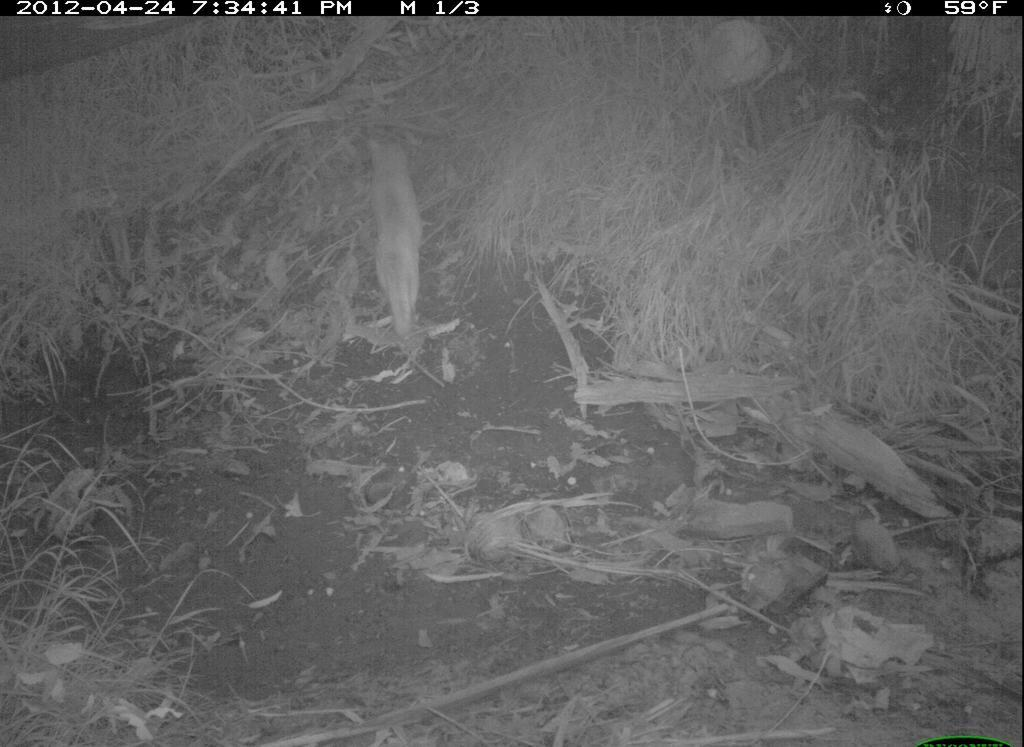cat: (363, 120, 441, 359)
